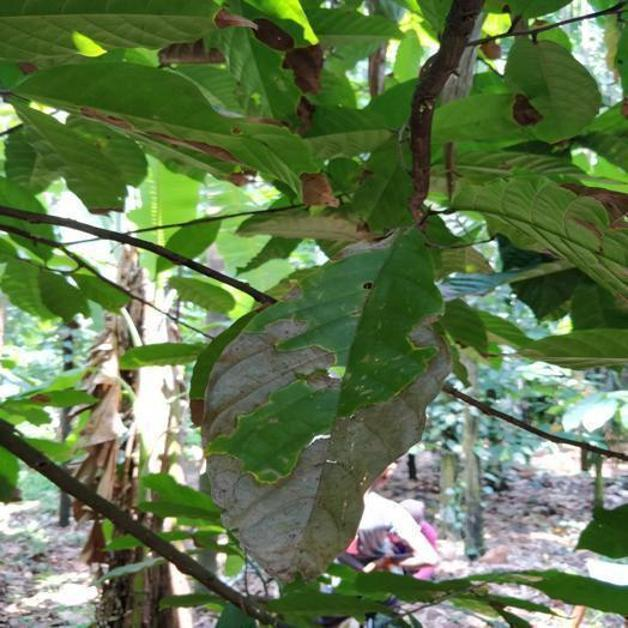Potassium: (203, 227, 449, 579)
